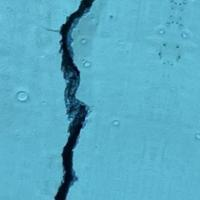crack: (39, 0, 111, 199)
